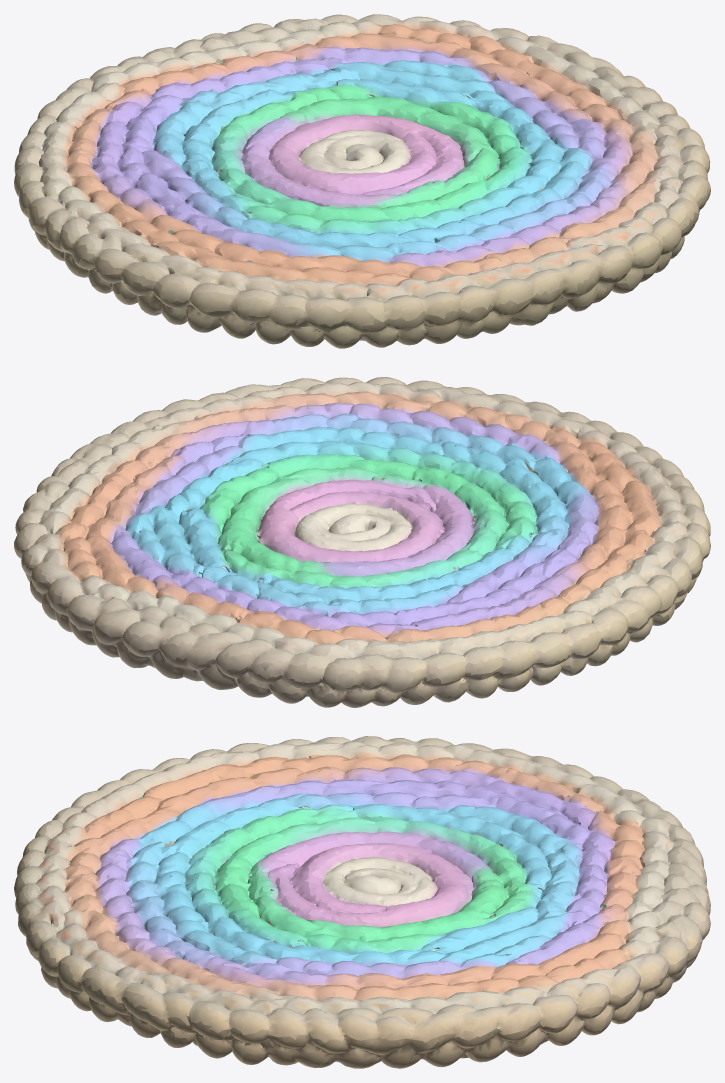
Rendered from fur_rug.glb.
3 views of the same model, one above another, from view 1: azimuth 30°, elevation 25°; view 2: azimuth 150°, elevation 25°; view 3: azimuth 270°, elevation 25° (orthographic). The views are drawn at different scales.
Visible parts, largest first — view 1: geometry_0; view 2: geometry_0; view 3: geometry_0.
Part boxes in pixels (x1,y1,x2,y2): geometry_0: (14, 14, 710, 348); geometry_0: (14, 377, 710, 707); geometry_0: (14, 736, 710, 1068).
Bounding box in the file's own units: 0.45 × 0.0429 × 0.4495.
Materials: 1 (1 with a texture image).
